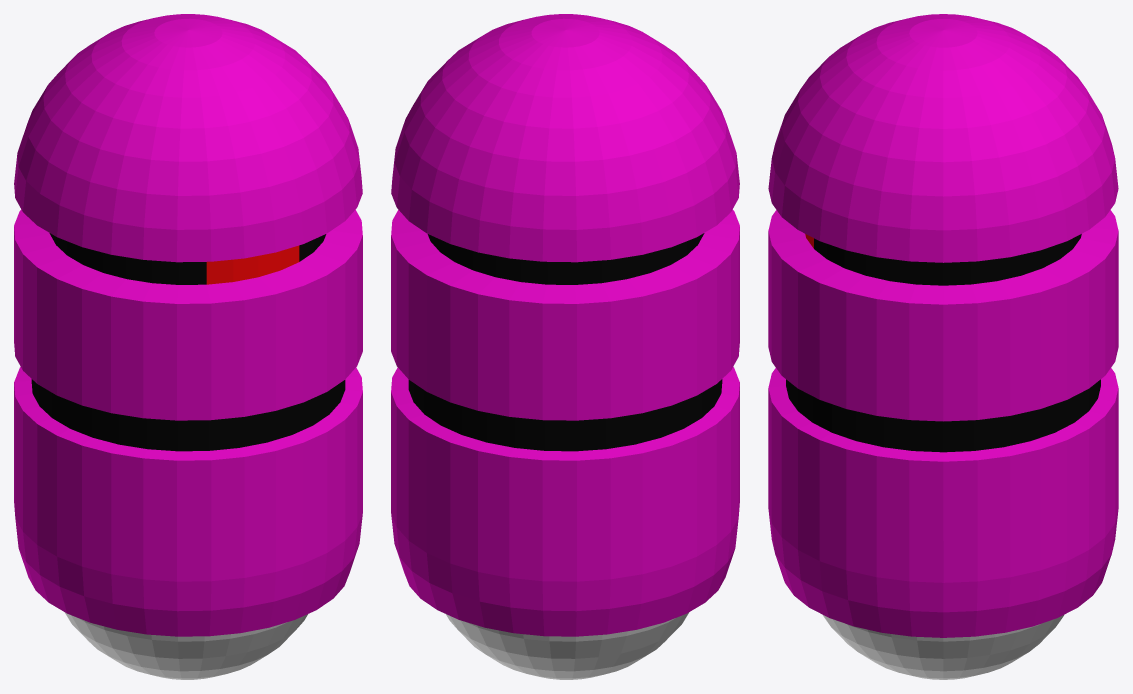
The model's file is PillEnemyVariant1.glb.
The picture shows the model from 3 angles, left to right: view 1: azimuth 30°, elevation 25°; view 2: azimuth 150°, elevation 25°; view 3: azimuth 270°, elevation 25°; orthographic projection.
Parts seen in each view (by area): view 1: VariantBody1; view 2: VariantBody1; view 3: VariantBody1.
Boxes of the visible parts, left/top/right/bottom form: VariantBody1: left=14, top=14, right=362, bottom=679; VariantBody1: left=391, top=14, right=739, bottom=679; VariantBody1: left=768, top=14, right=1118, bottom=679.
Size of the model in its own units: 1 by 2.01 by 1.
